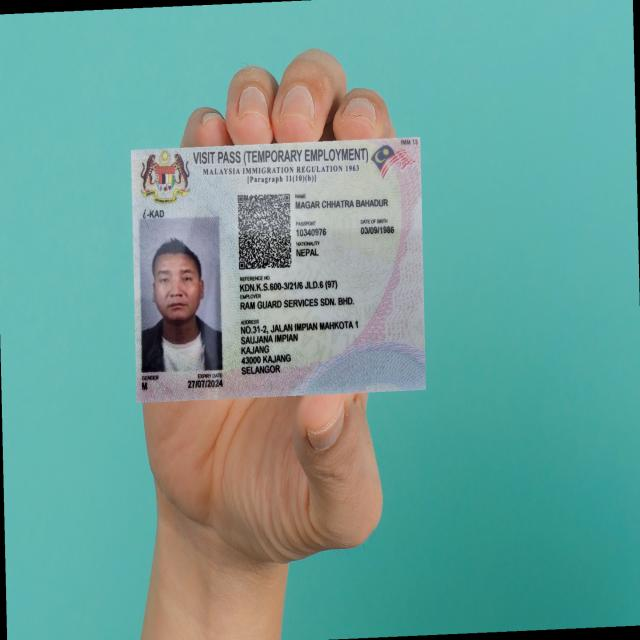ikad-temp: (130, 135, 426, 402)
